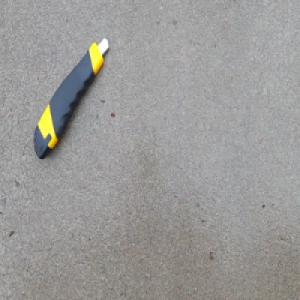Cutter: (32, 37, 110, 162)
